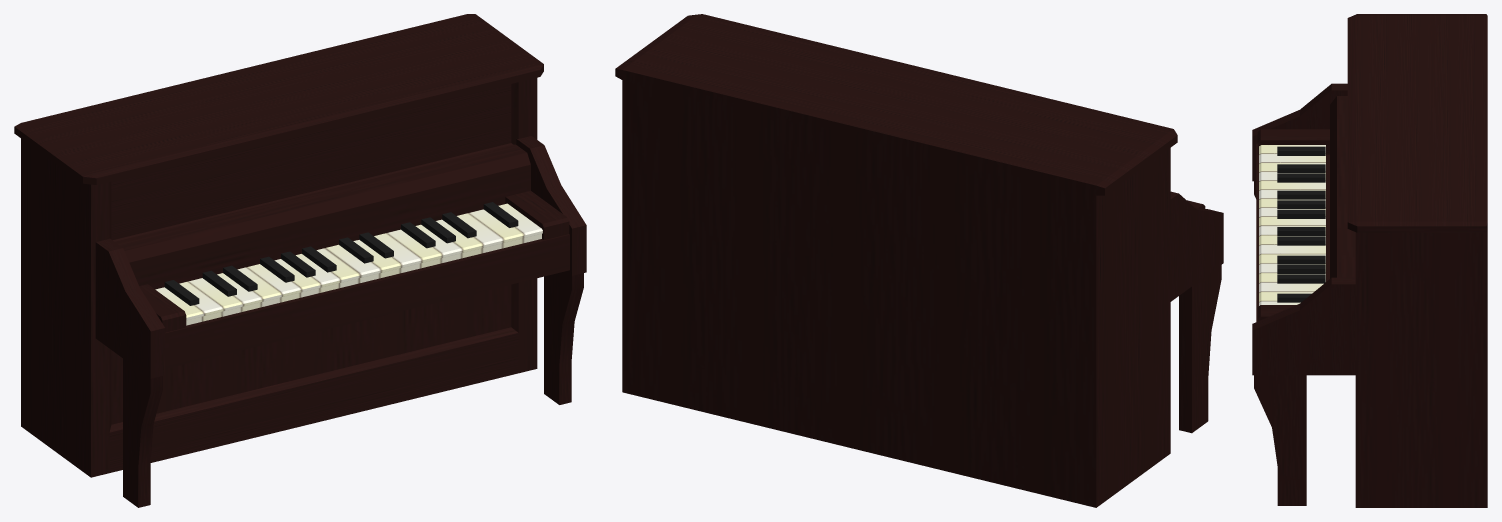
Rendered from Piano_A.FBX.
3 renders of one model, left to right at view 1: azimuth 30°, elevation 25°; view 2: azimuth 150°, elevation 25°; view 3: azimuth 270°, elevation 25°, orthographic. The views are drawn at different scales.
Visible parts, largest first — view 1: Piano; view 2: Piano; view 3: Piano.
Part boxes in pixels (box(x1,y1,x2,y2)): Piano: box(14, 14, 586, 507); Piano: box(615, 14, 1223, 507); Piano: box(1252, 14, 1487, 507).
Size of the model in its own units: 362 by 228 by 170.
